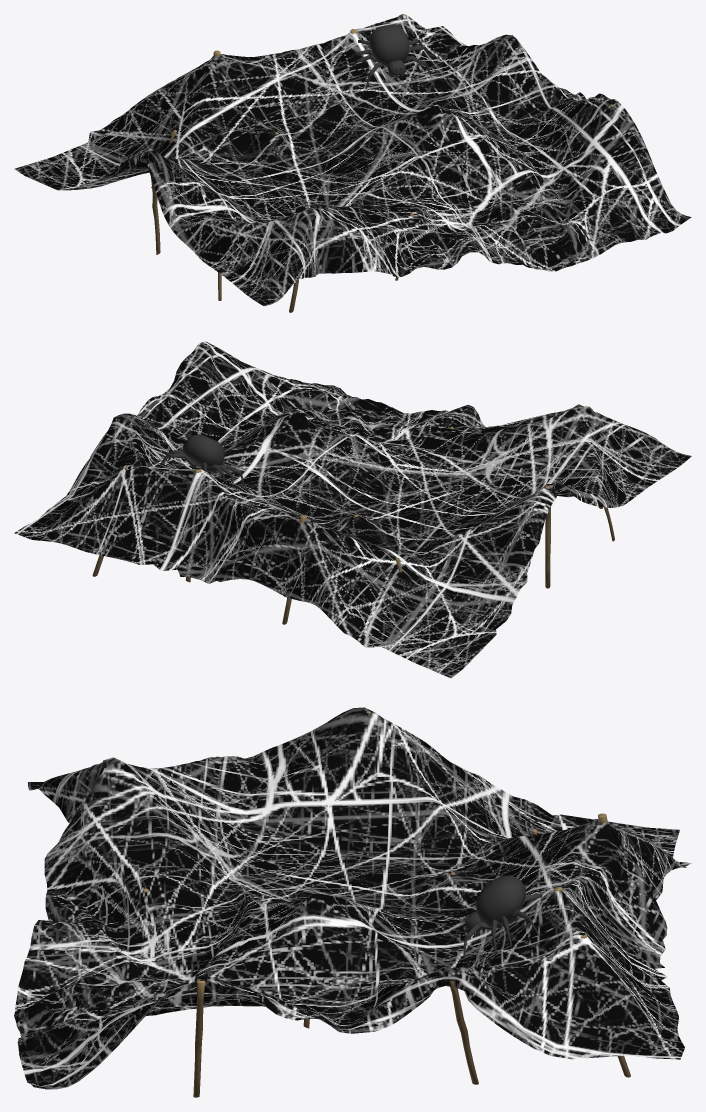
The model's file is SpiderWeb.fbx.
3 renders of one model, top to bottom at view 1: azimuth 30°, elevation 25°; view 2: azimuth 150°, elevation 25°; view 3: azimuth 270°, elevation 25°, orthographic. The views are drawn at different scales.
Visible parts, largest first — view 1: Plane.001; view 2: Plane.001; view 3: Plane.001.
Part boxes in pixels (x1=…): Plane.001: x1=14, y1=14, x2=691, y2=312; Plane.001: x1=14, y1=341, x2=691, y2=678; Plane.001: x1=14, y1=707, x2=691, y2=1097.
Bounding box in the file's own units: 935 × 243 × 934.
